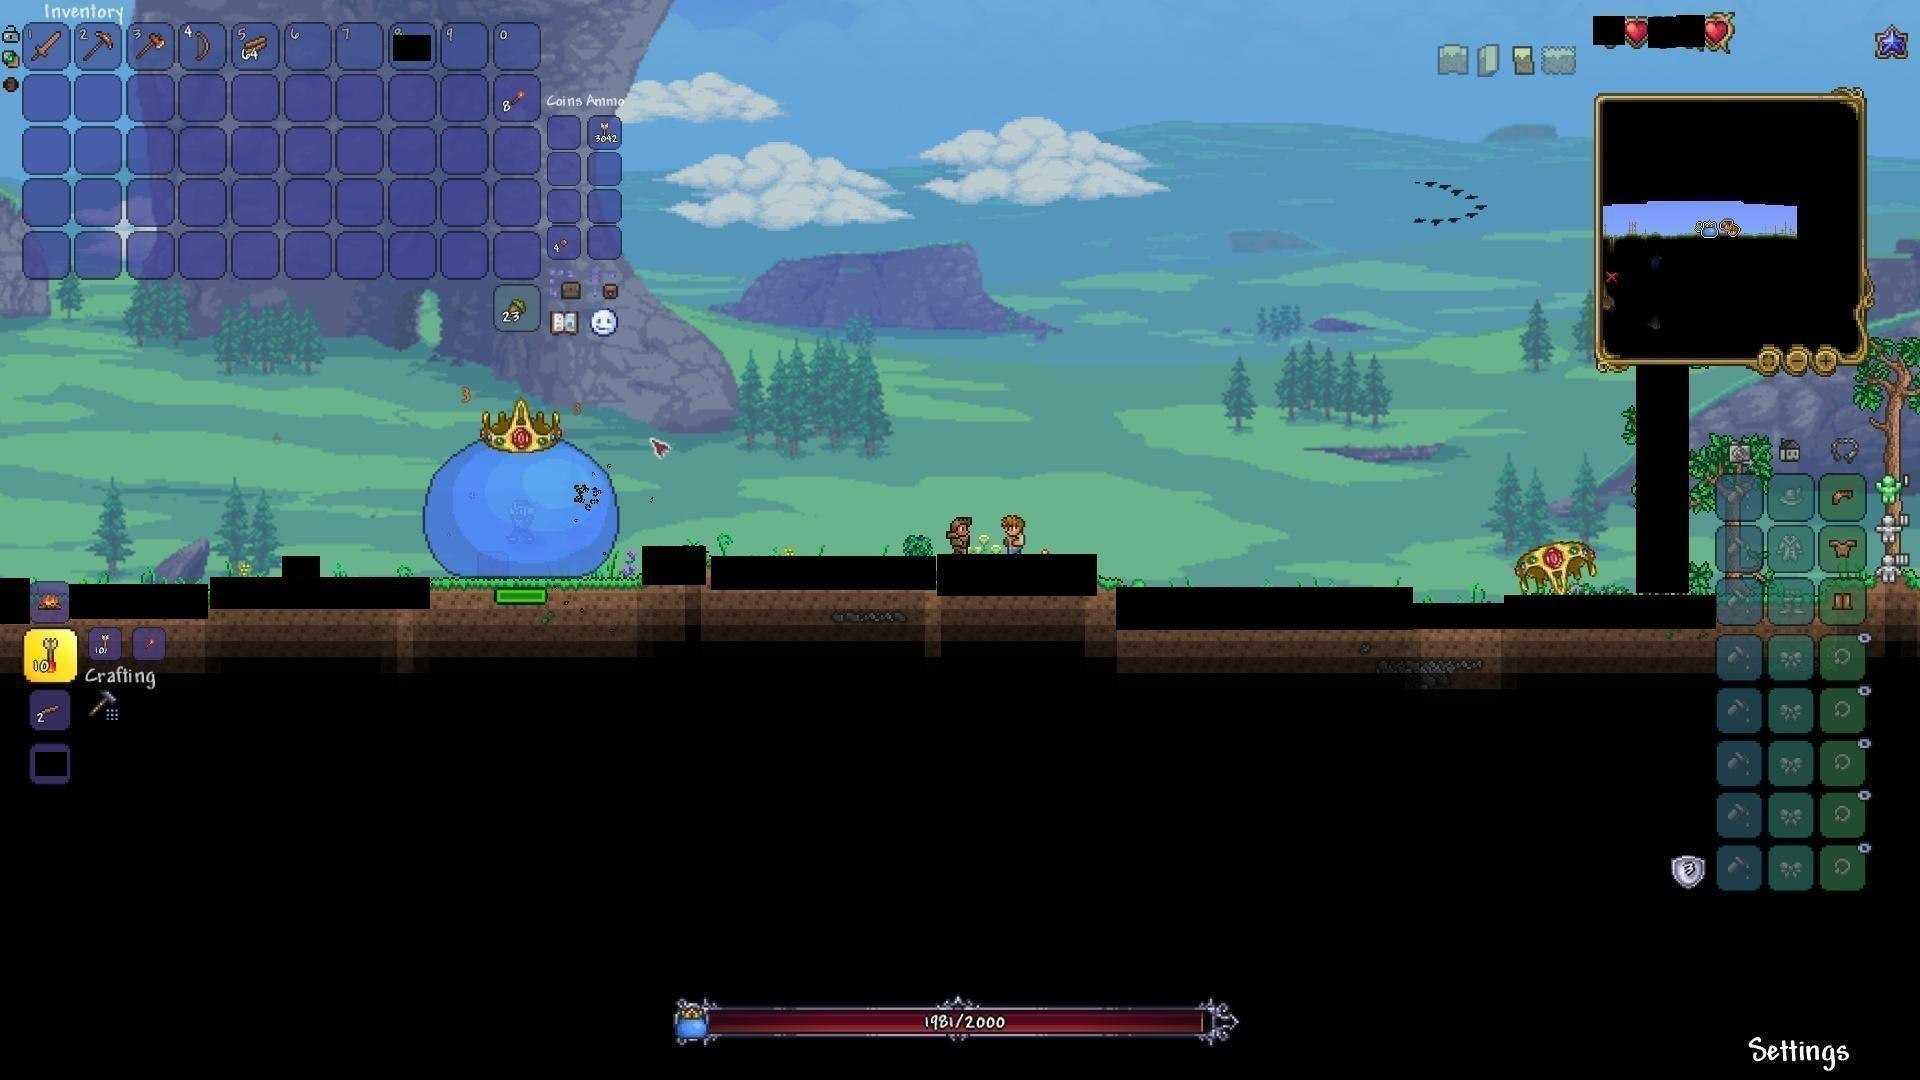breastplate: (1829, 538, 1859, 559)
dirt: (434, 572, 640, 608)
heart: (1704, 17, 1731, 47), (1625, 17, 1651, 46)
helmet: (1826, 483, 1858, 512)
legs: (1832, 589, 1857, 616)
wood: (243, 34, 272, 61)
